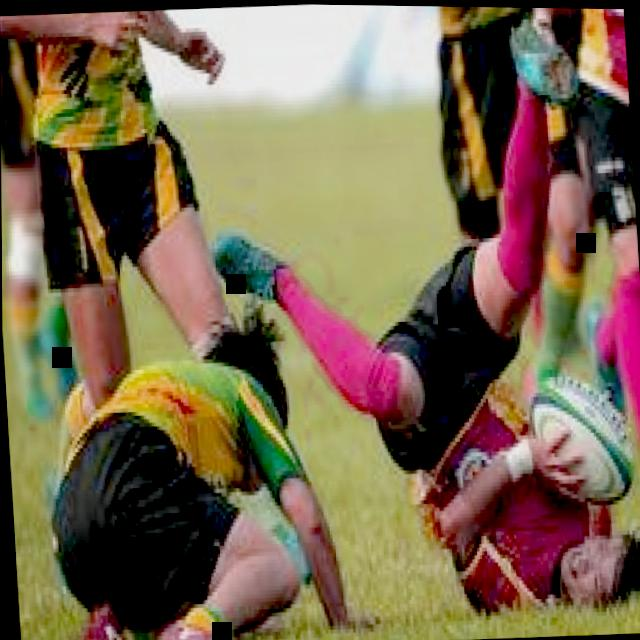Fall-Detected: (225, 70, 640, 640)
